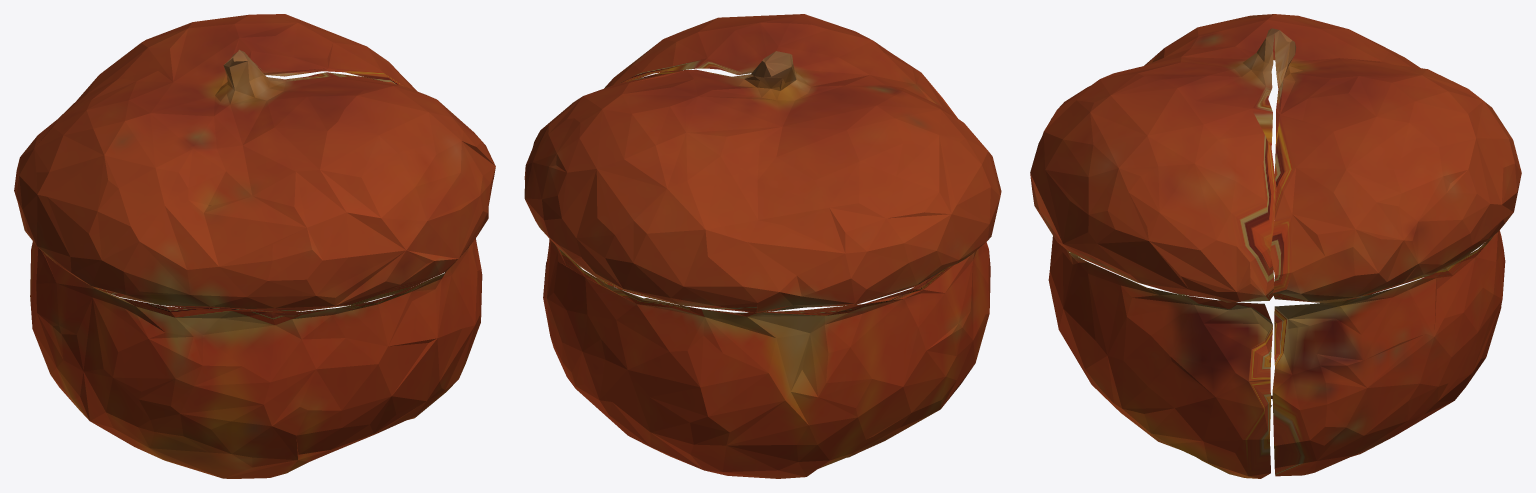
File: food_produce_squash_h01.glb
3 renders of one model, left to right at view 1: azimuth 30°, elevation 25°; view 2: azimuth 150°, elevation 25°; view 3: azimuth 270°, elevation 25°, orthographic.
Visible parts, largest first — view 1: geometry_0; view 2: geometry_0; view 3: geometry_0.
Boxes of the visible parts, x1,y1,x2,y2 form: geometry_0: (14, 14, 495, 478); geometry_0: (524, 14, 1001, 478); geometry_0: (1030, 14, 1521, 478).
Size of the model in its own units: 0.4095 by 0.363 by 0.42.
1 material, 1 textured.
